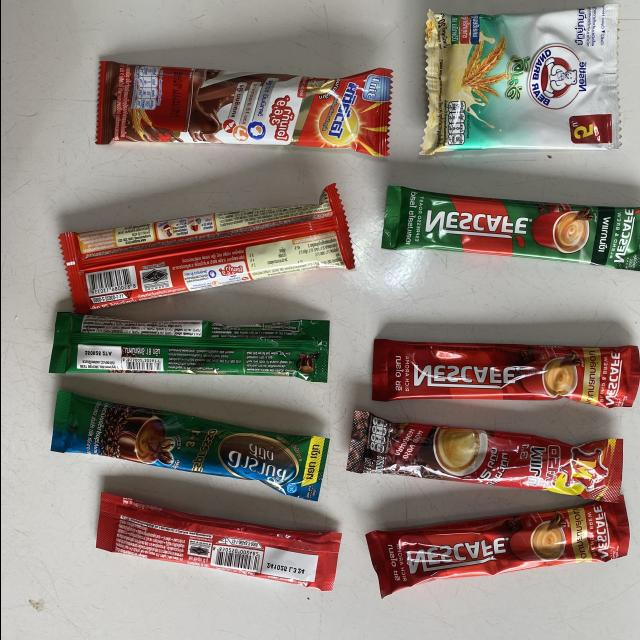plastik: (58, 184, 353, 314), (52, 392, 329, 501), (420, 4, 619, 155), (95, 62, 391, 156), (364, 496, 628, 596), (346, 411, 622, 502), (95, 493, 341, 591), (382, 186, 640, 272), (49, 313, 329, 383), (371, 339, 639, 408)
